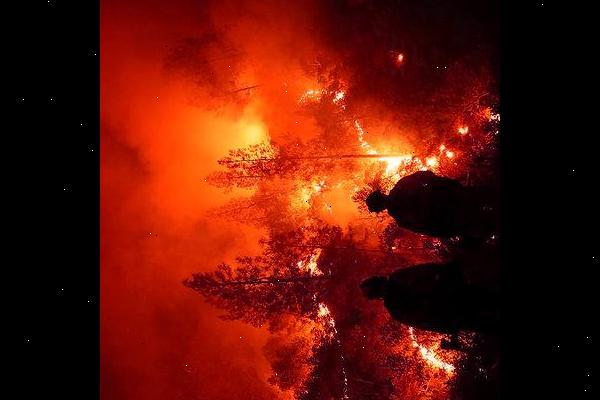fire: (245, 166, 358, 400), (222, 70, 497, 166), (390, 328, 470, 394)
